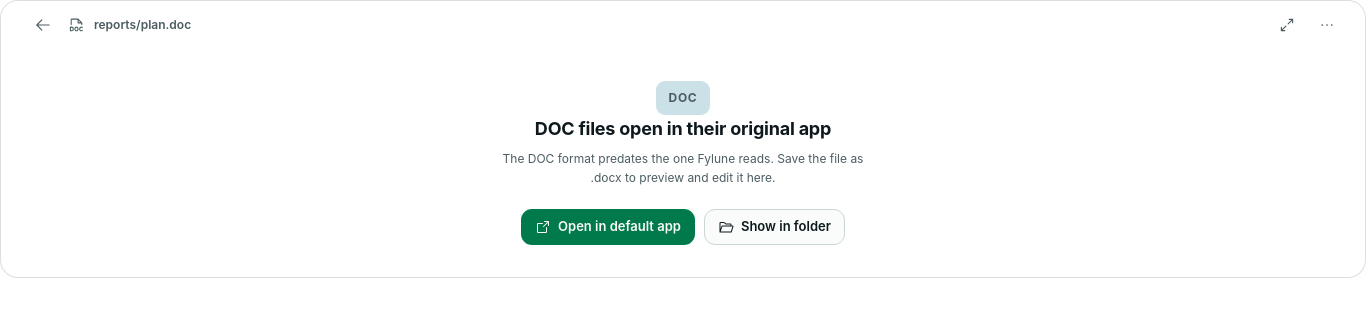
Test case: legacy Office documents › reports a failure to hand the file off rather than failing silently
Click the button "Open in default app".
click(608, 227)  # box [521,209,695,245]
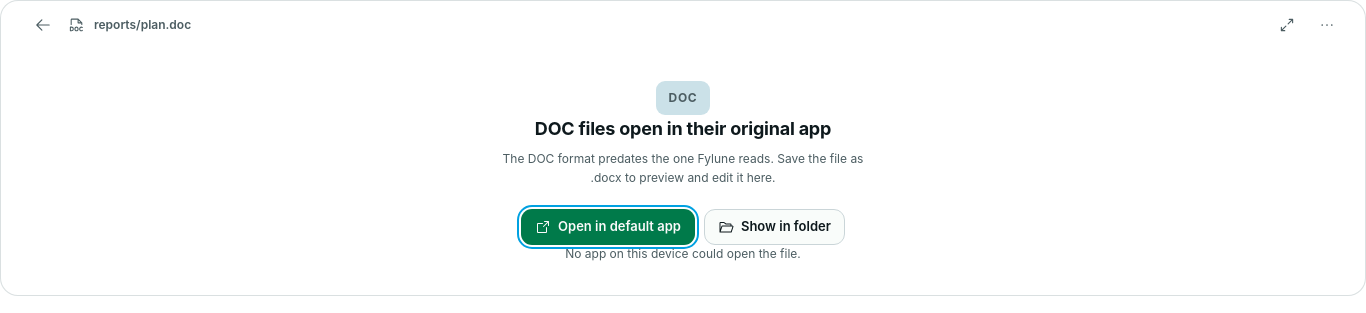
Result: the message reads "No app on this device could open the file." at [565,246,801,261]
